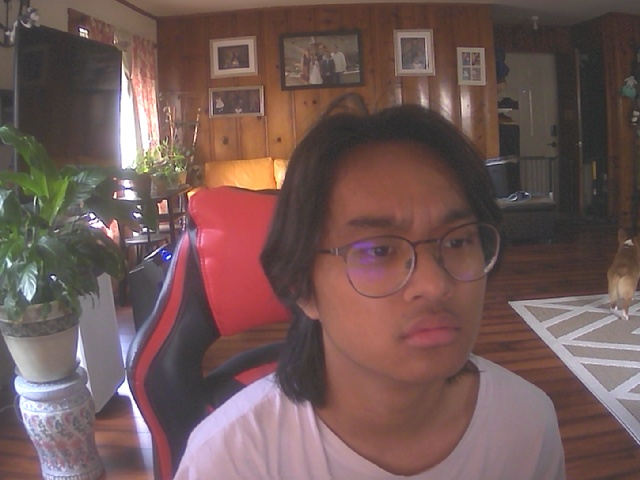anger: (291, 115, 502, 392)
